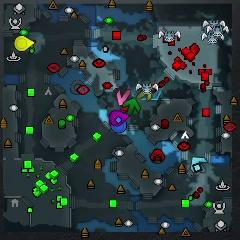p1: (111, 121, 128, 133)
p3: (109, 111, 130, 125)
p4: (15, 36, 35, 52)
x1: (115, 90, 131, 106)
x2: (135, 89, 153, 100)
x3: (191, 156, 206, 174)
x4: (125, 98, 140, 116)
